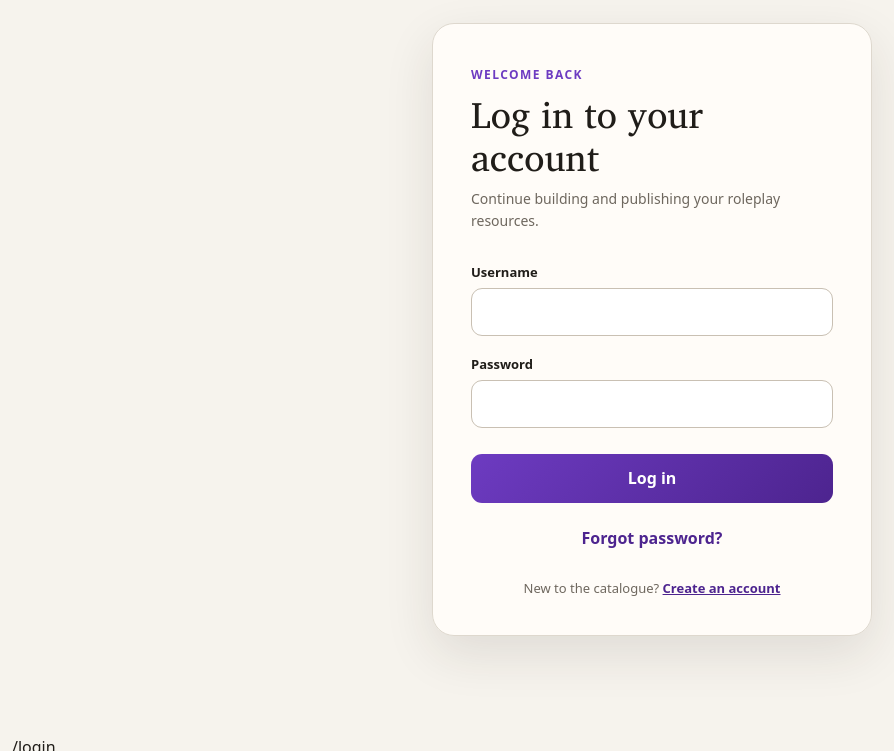
it: LoginPage › logs in and returns to the protected destination
Type "alice" into the field labelled "Username". click: (652, 312)
box: left=471, top=288, right=833, bottom=336
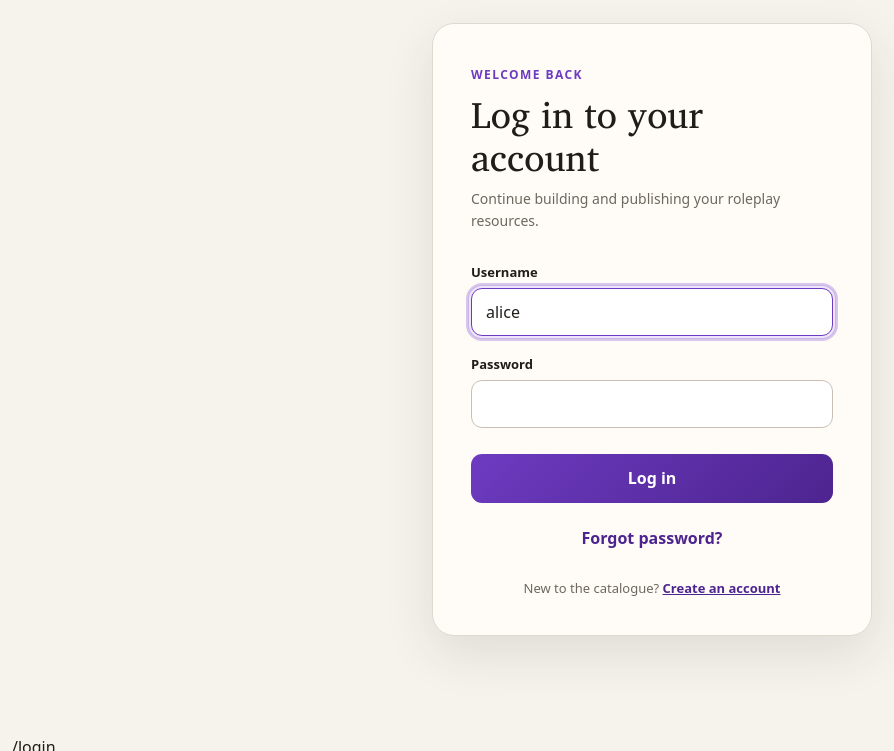
Type "secret" into the password field labelled "Password". click: (652, 404)
box: left=471, top=380, right=833, bottom=428
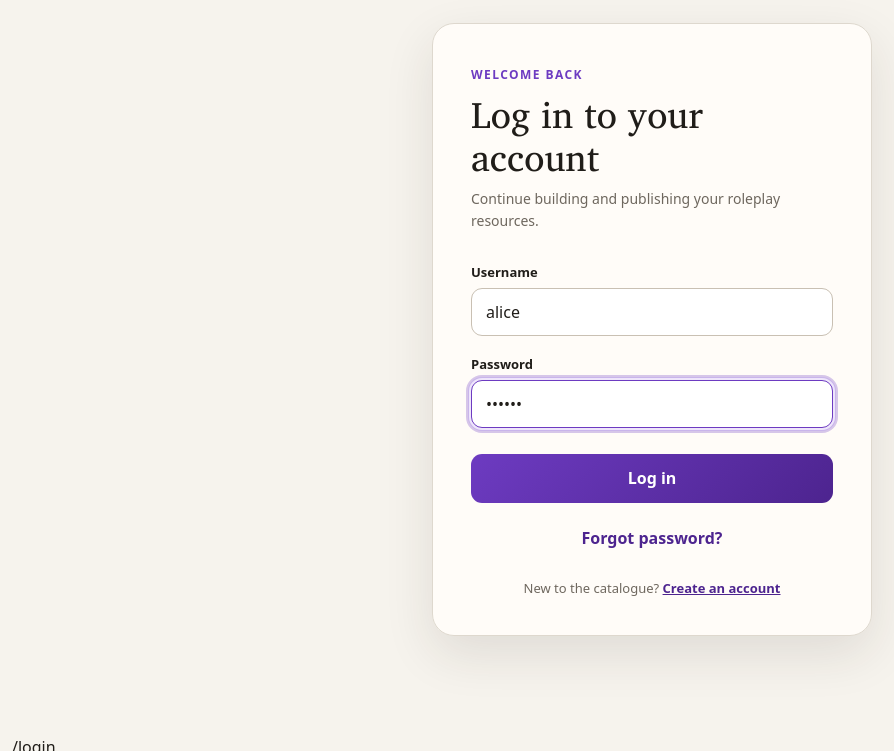
Click the button "Log in". click: click(652, 478)
box: left=471, top=454, right=833, bottom=503
(page scrolled)
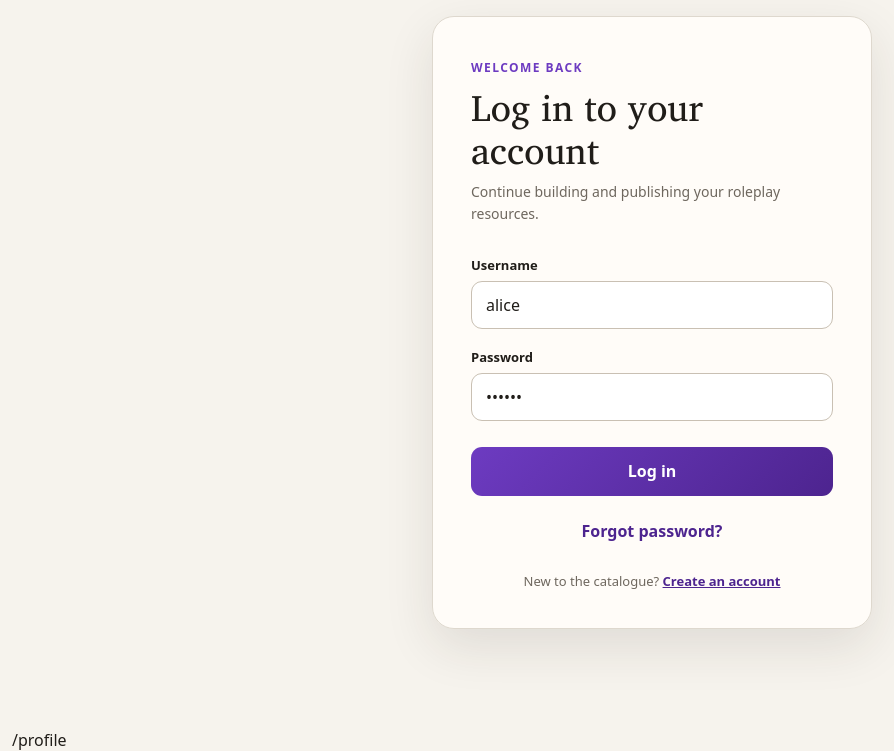
Expected: the text with test id "location" reads "/profile", left=12, top=729, right=66, bottom=750
